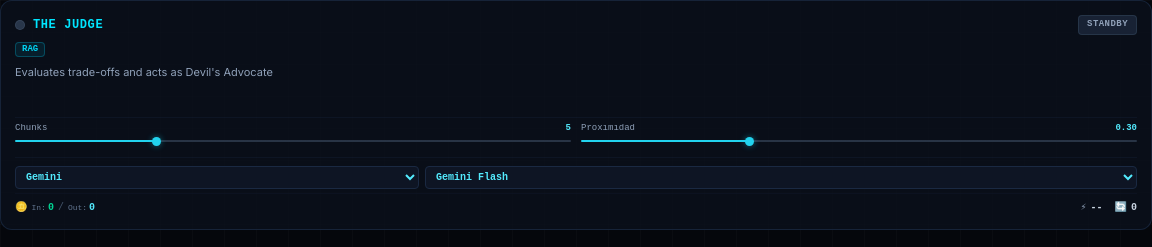
Test: AgentCard.vue › renders RAG configuration sliders when usesRag is true and updates config store
The image size is (1152, 247).
Expected: the element with test id "rag-config-controls" is shown, [15,117,1137,147]
Expected: the slider with test id "rag-min-score-slider" is shown, [581,135,1137,147]
Set the slider with test id "rag-top-k-slider" to "12" at (347, 141), box [15,135,571,147]
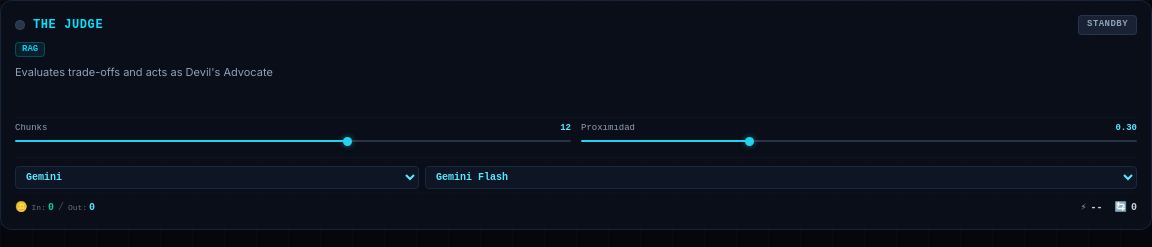
Now the text with test id "rag-top-k-value" reads "12", box [560,123,571,133]
Set the slider with test id "rag-min-score-slider" to "0.55" at (886, 141), box [581,135,1137,147]
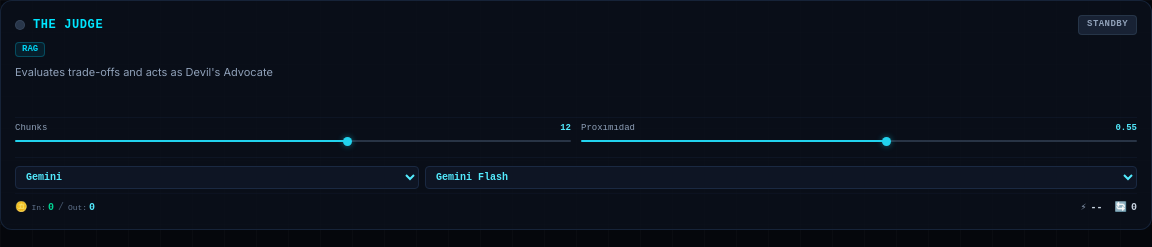
Now the text with test id "rag-min-score-value" reads "0.55", box [1115,123,1137,133]
Set the slider with test id "rag-top-k-slider" to "0" at (23, 141), box [15,135,571,147]
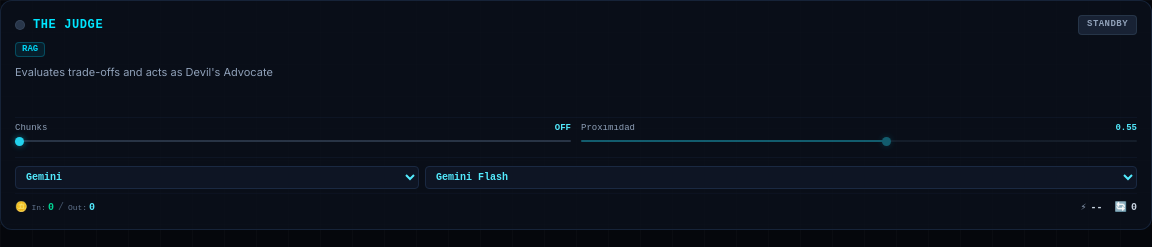
Now the text with test id "rag-top-k-value" reads "OFF", box [555,123,571,133]
Now the slider with test id "rag-min-score-slider" is disabled, box [581,135,1137,147]
